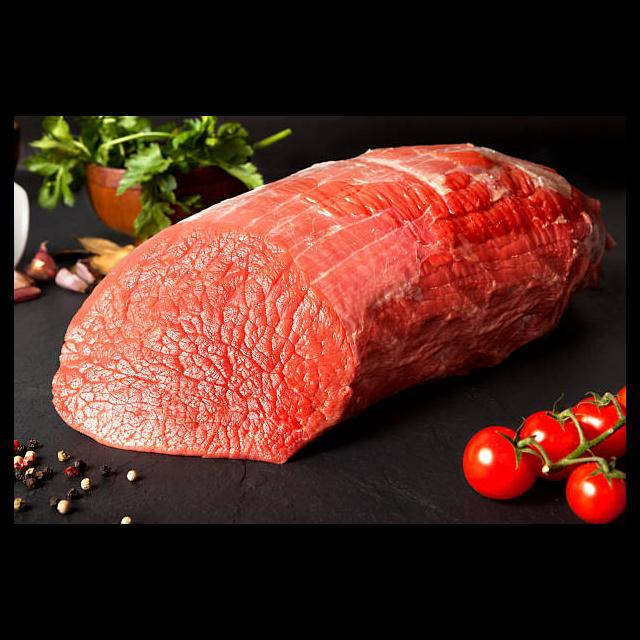beef: (50, 133, 623, 465)
